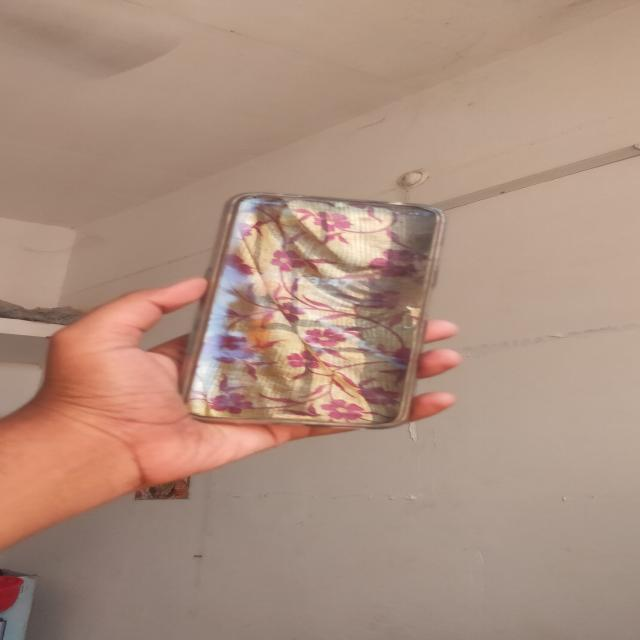Phone: (178, 184, 450, 434)
